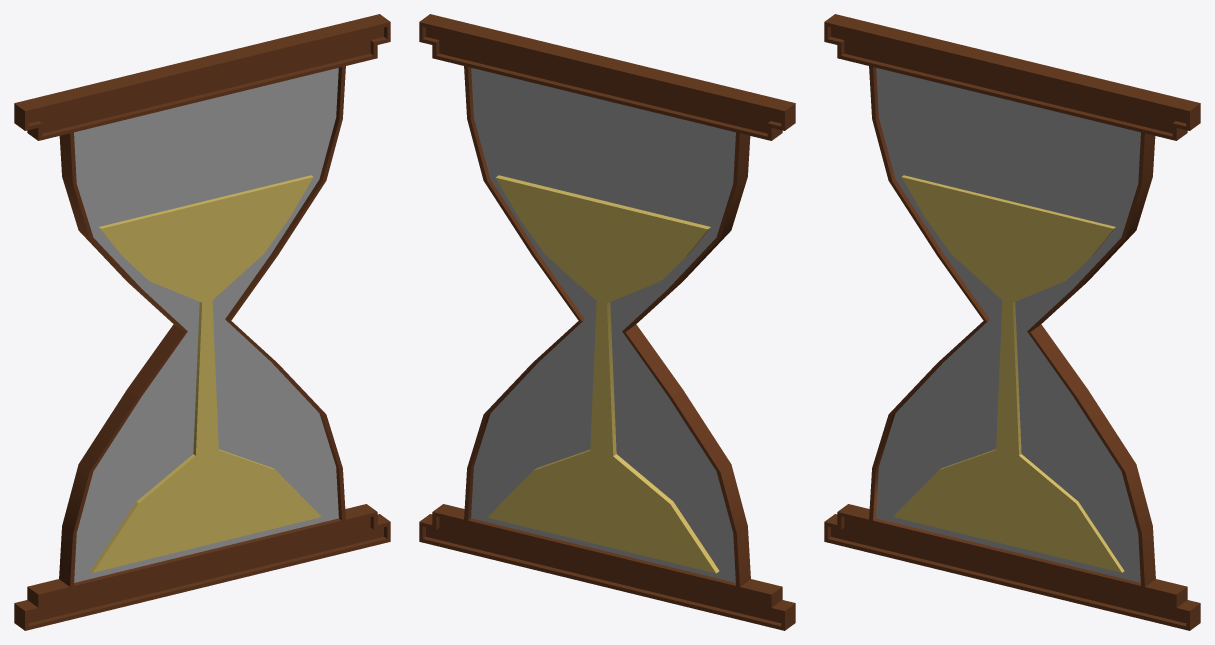
Rendered from Collectable Hour Glass.fbx.
The picture shows the model from 3 angles, left to right: view 1: azimuth 30°, elevation 25°; view 2: azimuth 150°, elevation 25°; view 3: azimuth 330°, elevation 25°; orthographic projection.
Parts seen in each view (by area): view 1: pCube3; view 2: pCube3; view 3: pCube3.
Boxes of the visible parts, x1,y1,x2,y2 form: pCube3: [14, 14, 390, 630]; pCube3: [419, 14, 795, 630]; pCube3: [824, 14, 1200, 630].
Size of the model in its own units: 6.43 by 8.74 by 0.3421.
